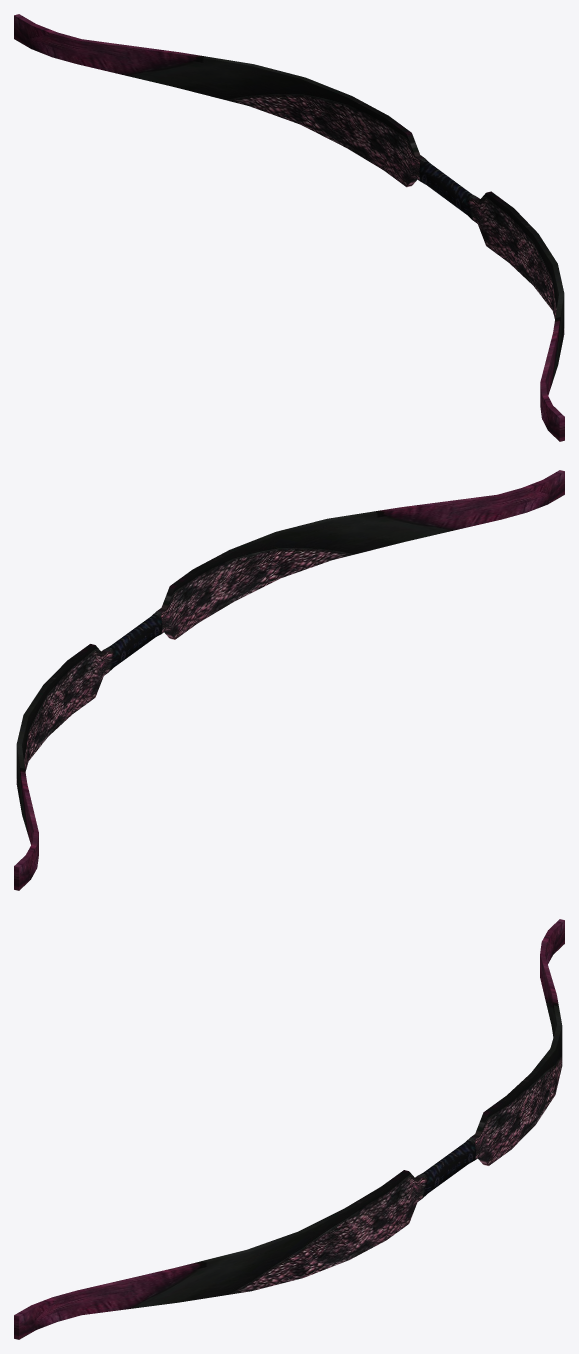
The model's file is bow_m_archbow_archbow_dark.glb.
The picture shows the model from 3 angles, top to bottom: view 1: azimuth 30°, elevation 25°; view 2: azimuth 150°, elevation 25°; view 3: azimuth 330°, elevation 25°; orthographic projection.
Size of the model in its own units: 0.3146 by 0.0936 by 1.75.
Materials: 1 (1 with a texture image).
